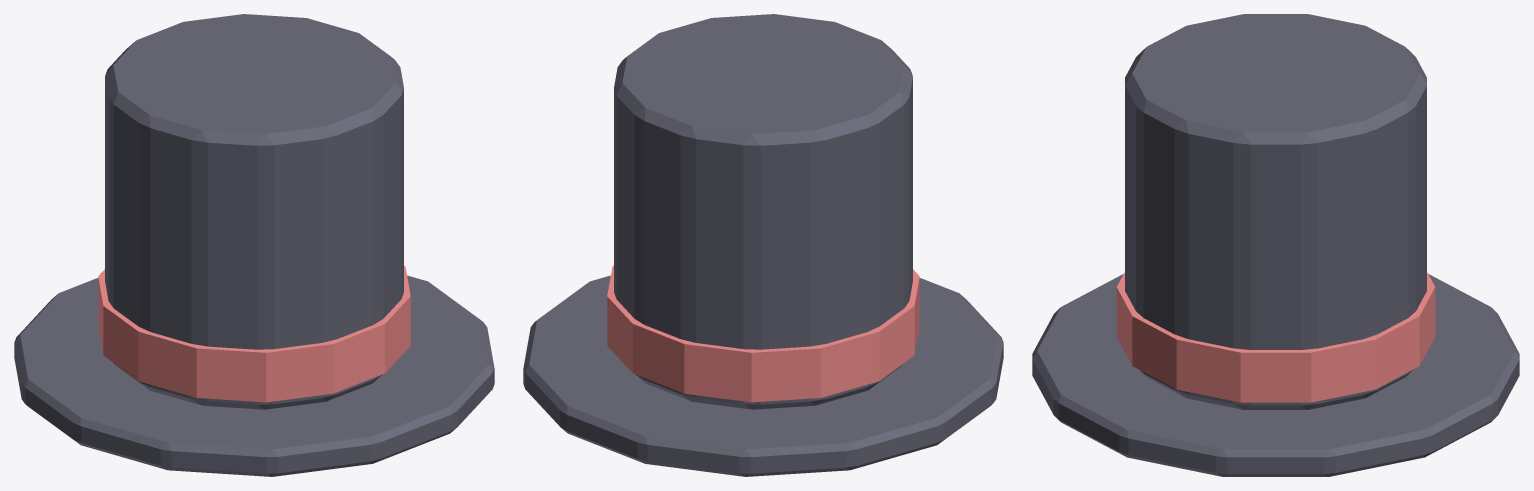
Rendered from CF_HatTop.fbx.
The picture shows the model from 3 angles, left to right: view 1: azimuth 30°, elevation 25°; view 2: azimuth 150°, elevation 25°; view 3: azimuth 270°, elevation 25°; orthographic projection.
Parts seen in each view (by area): view 1: CF_HatTop_Felt, CF_HatTop_Band; view 2: CF_HatTop_Felt, CF_HatTop_Band; view 3: CF_HatTop_Felt, CF_HatTop_Band.
Boxes of the visible parts, x1=… form: CF_HatTop_Felt: x1=14, y1=14, x2=494, y2=476; CF_HatTop_Band: x1=98, y1=265, x2=410, y2=402; CF_HatTop_Felt: x1=523, y1=14, x2=1003, y2=476; CF_HatTop_Band: x1=607, y1=265, x2=919, y2=402; CF_HatTop_Felt: x1=1032, y1=14, x2=1519, y2=476; CF_HatTop_Band: x1=1116, y1=272, x2=1435, y2=402.
Size of the model in its own units: 1.56 by 1.1 by 1.59.
